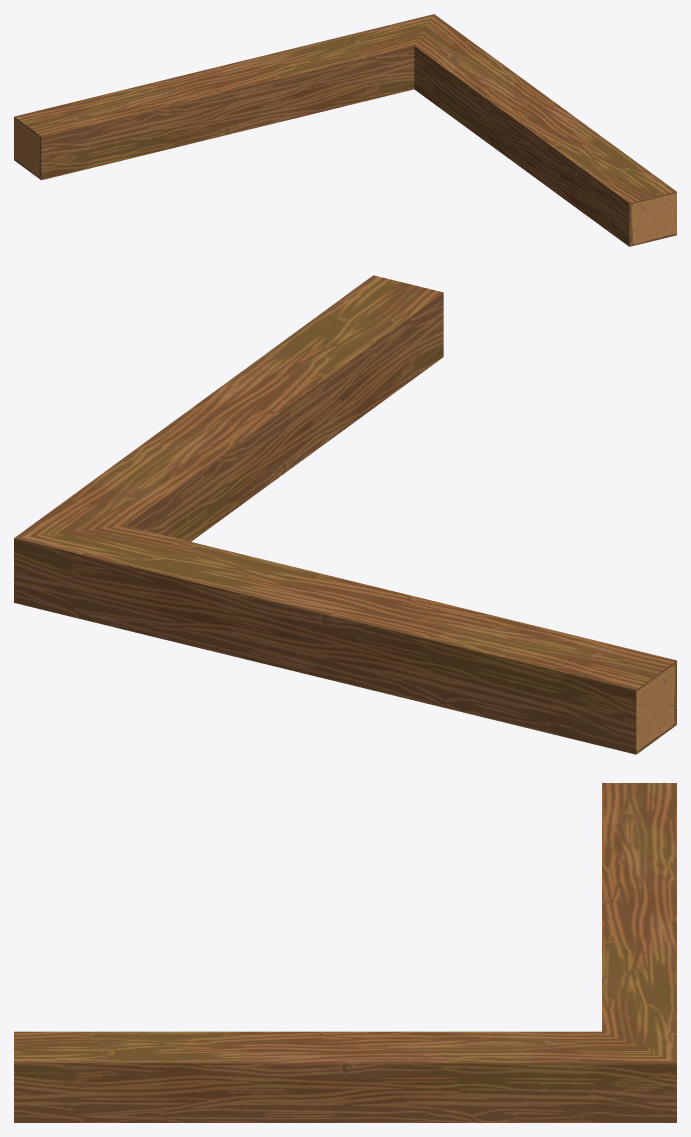
Rendered from holecover-90angle.glb.
The picture shows the model from 3 angles, top to bottom: view 1: azimuth 30°, elevation 25°; view 2: azimuth 150°, elevation 25°; view 3: azimuth 270°, elevation 25°; orthographic projection. The views are drawn at different scales.
Parts seen in each view (by area): view 1: HoleCover_90Angle; view 2: HoleCover_90Angle; view 3: HoleCover_90Angle.
Part boxes in pixels (bbox=[...]): HoleCover_90Angle: bbox=[14, 14, 676, 246]; HoleCover_90Angle: bbox=[14, 275, 676, 754]; HoleCover_90Angle: bbox=[14, 783, 676, 1122].
Size of the model in its own units: 2.12 by 0.2102 by 2.12.
1 material, 1 textured.
